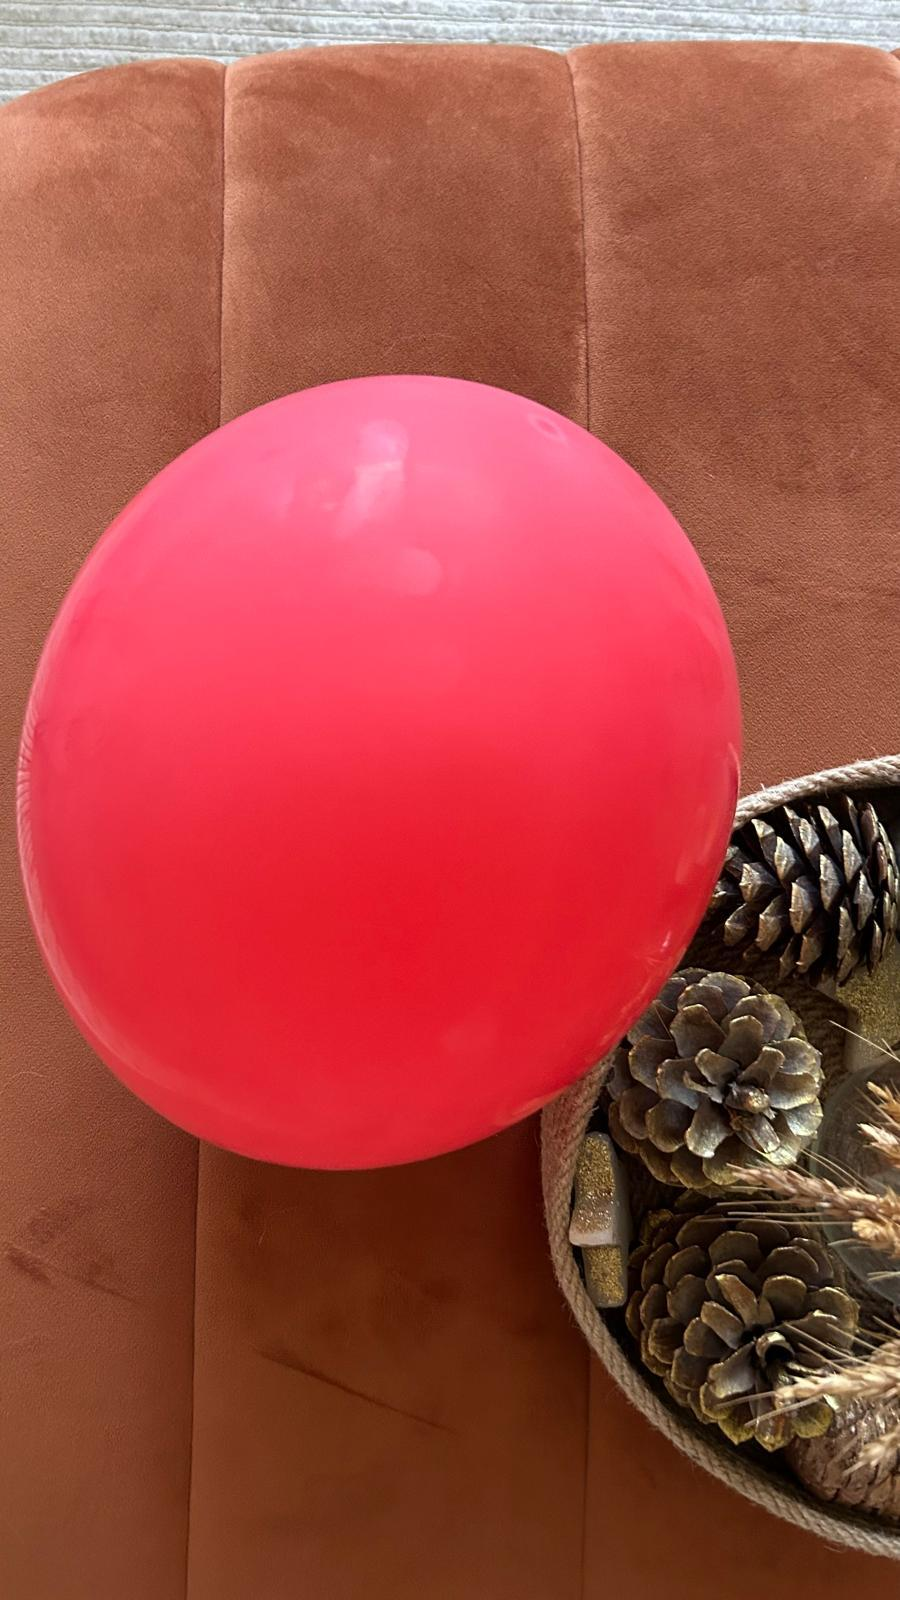red: (11, 360, 744, 1171)
